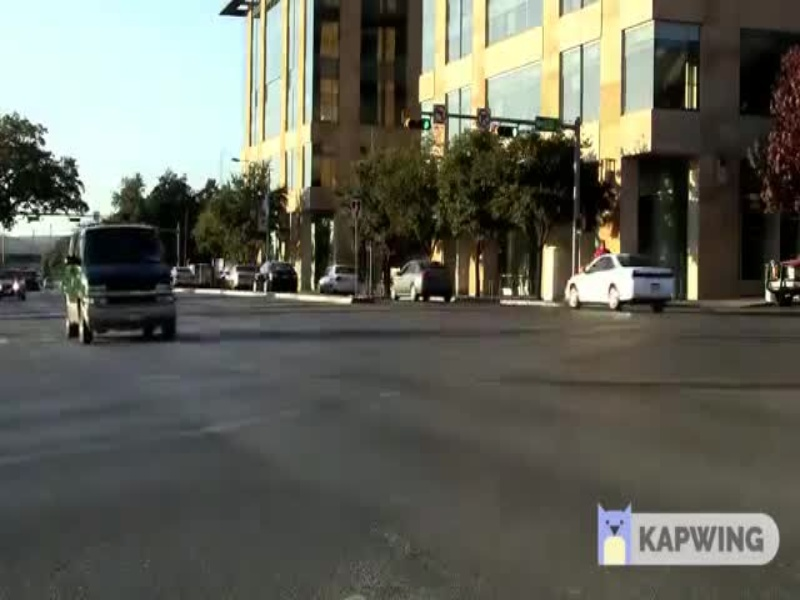car: (542, 243, 695, 322), (381, 249, 465, 303)
van: (46, 222, 187, 353)
